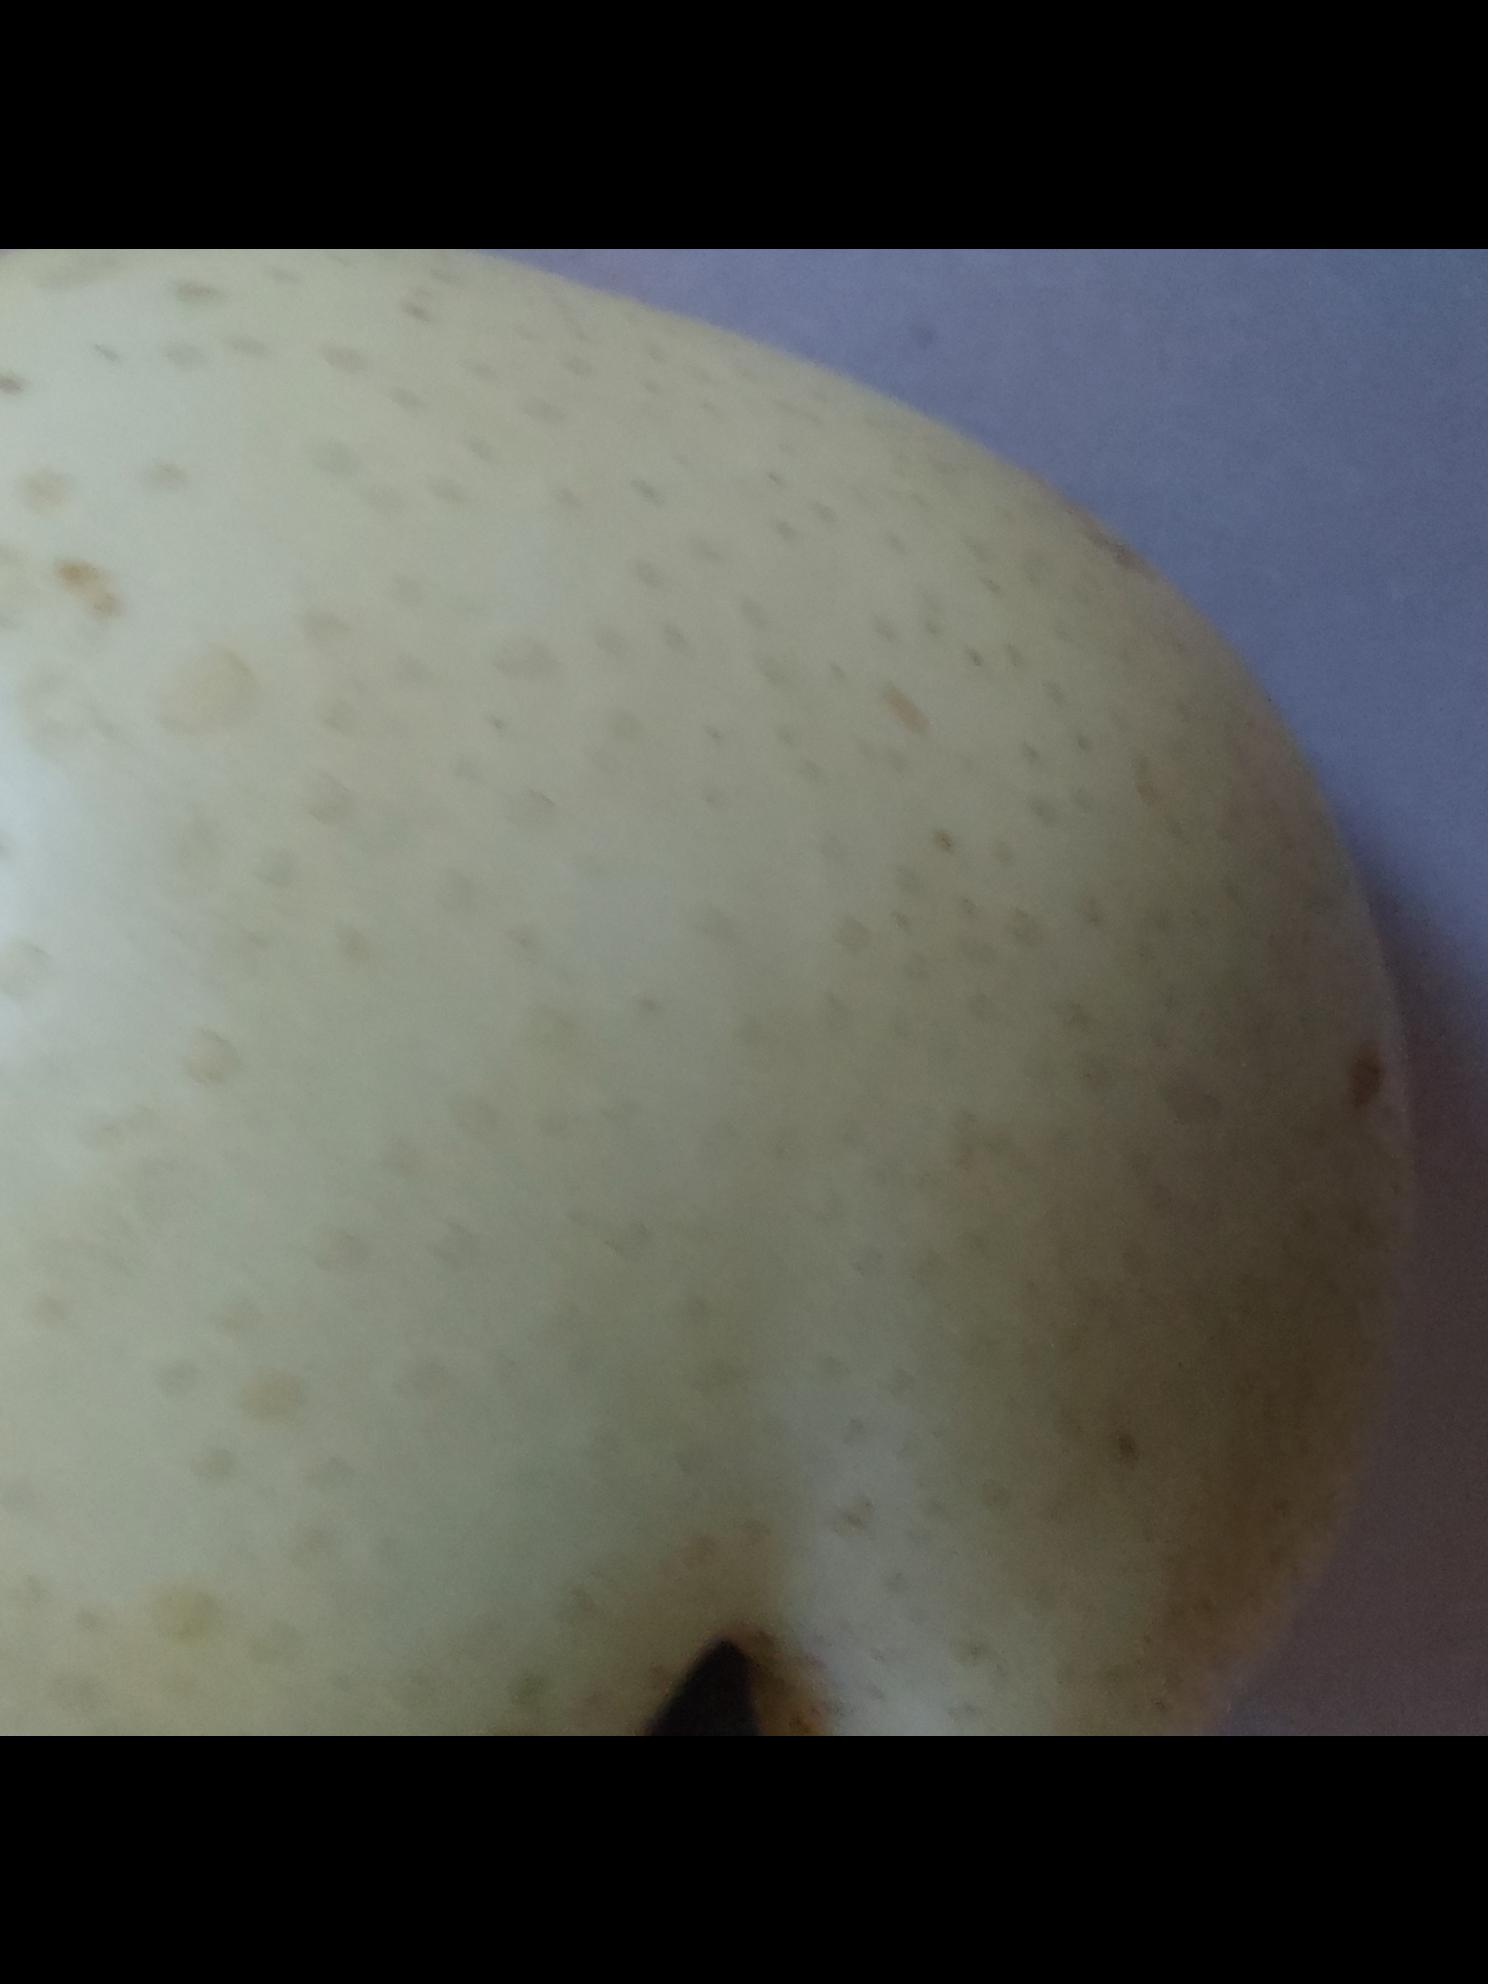Good Pear: (0, 248, 1430, 1736)
